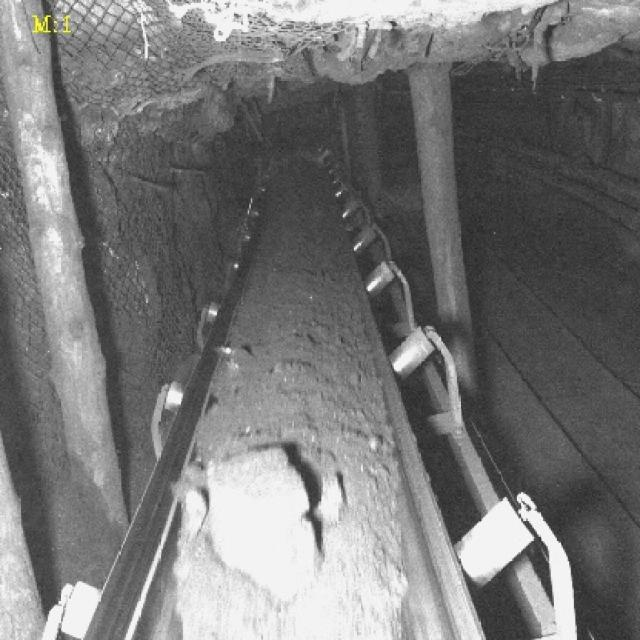large_sized_coal: (208, 444, 315, 584), (309, 472, 345, 528)
